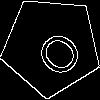O: (26, 21, 86, 82)
